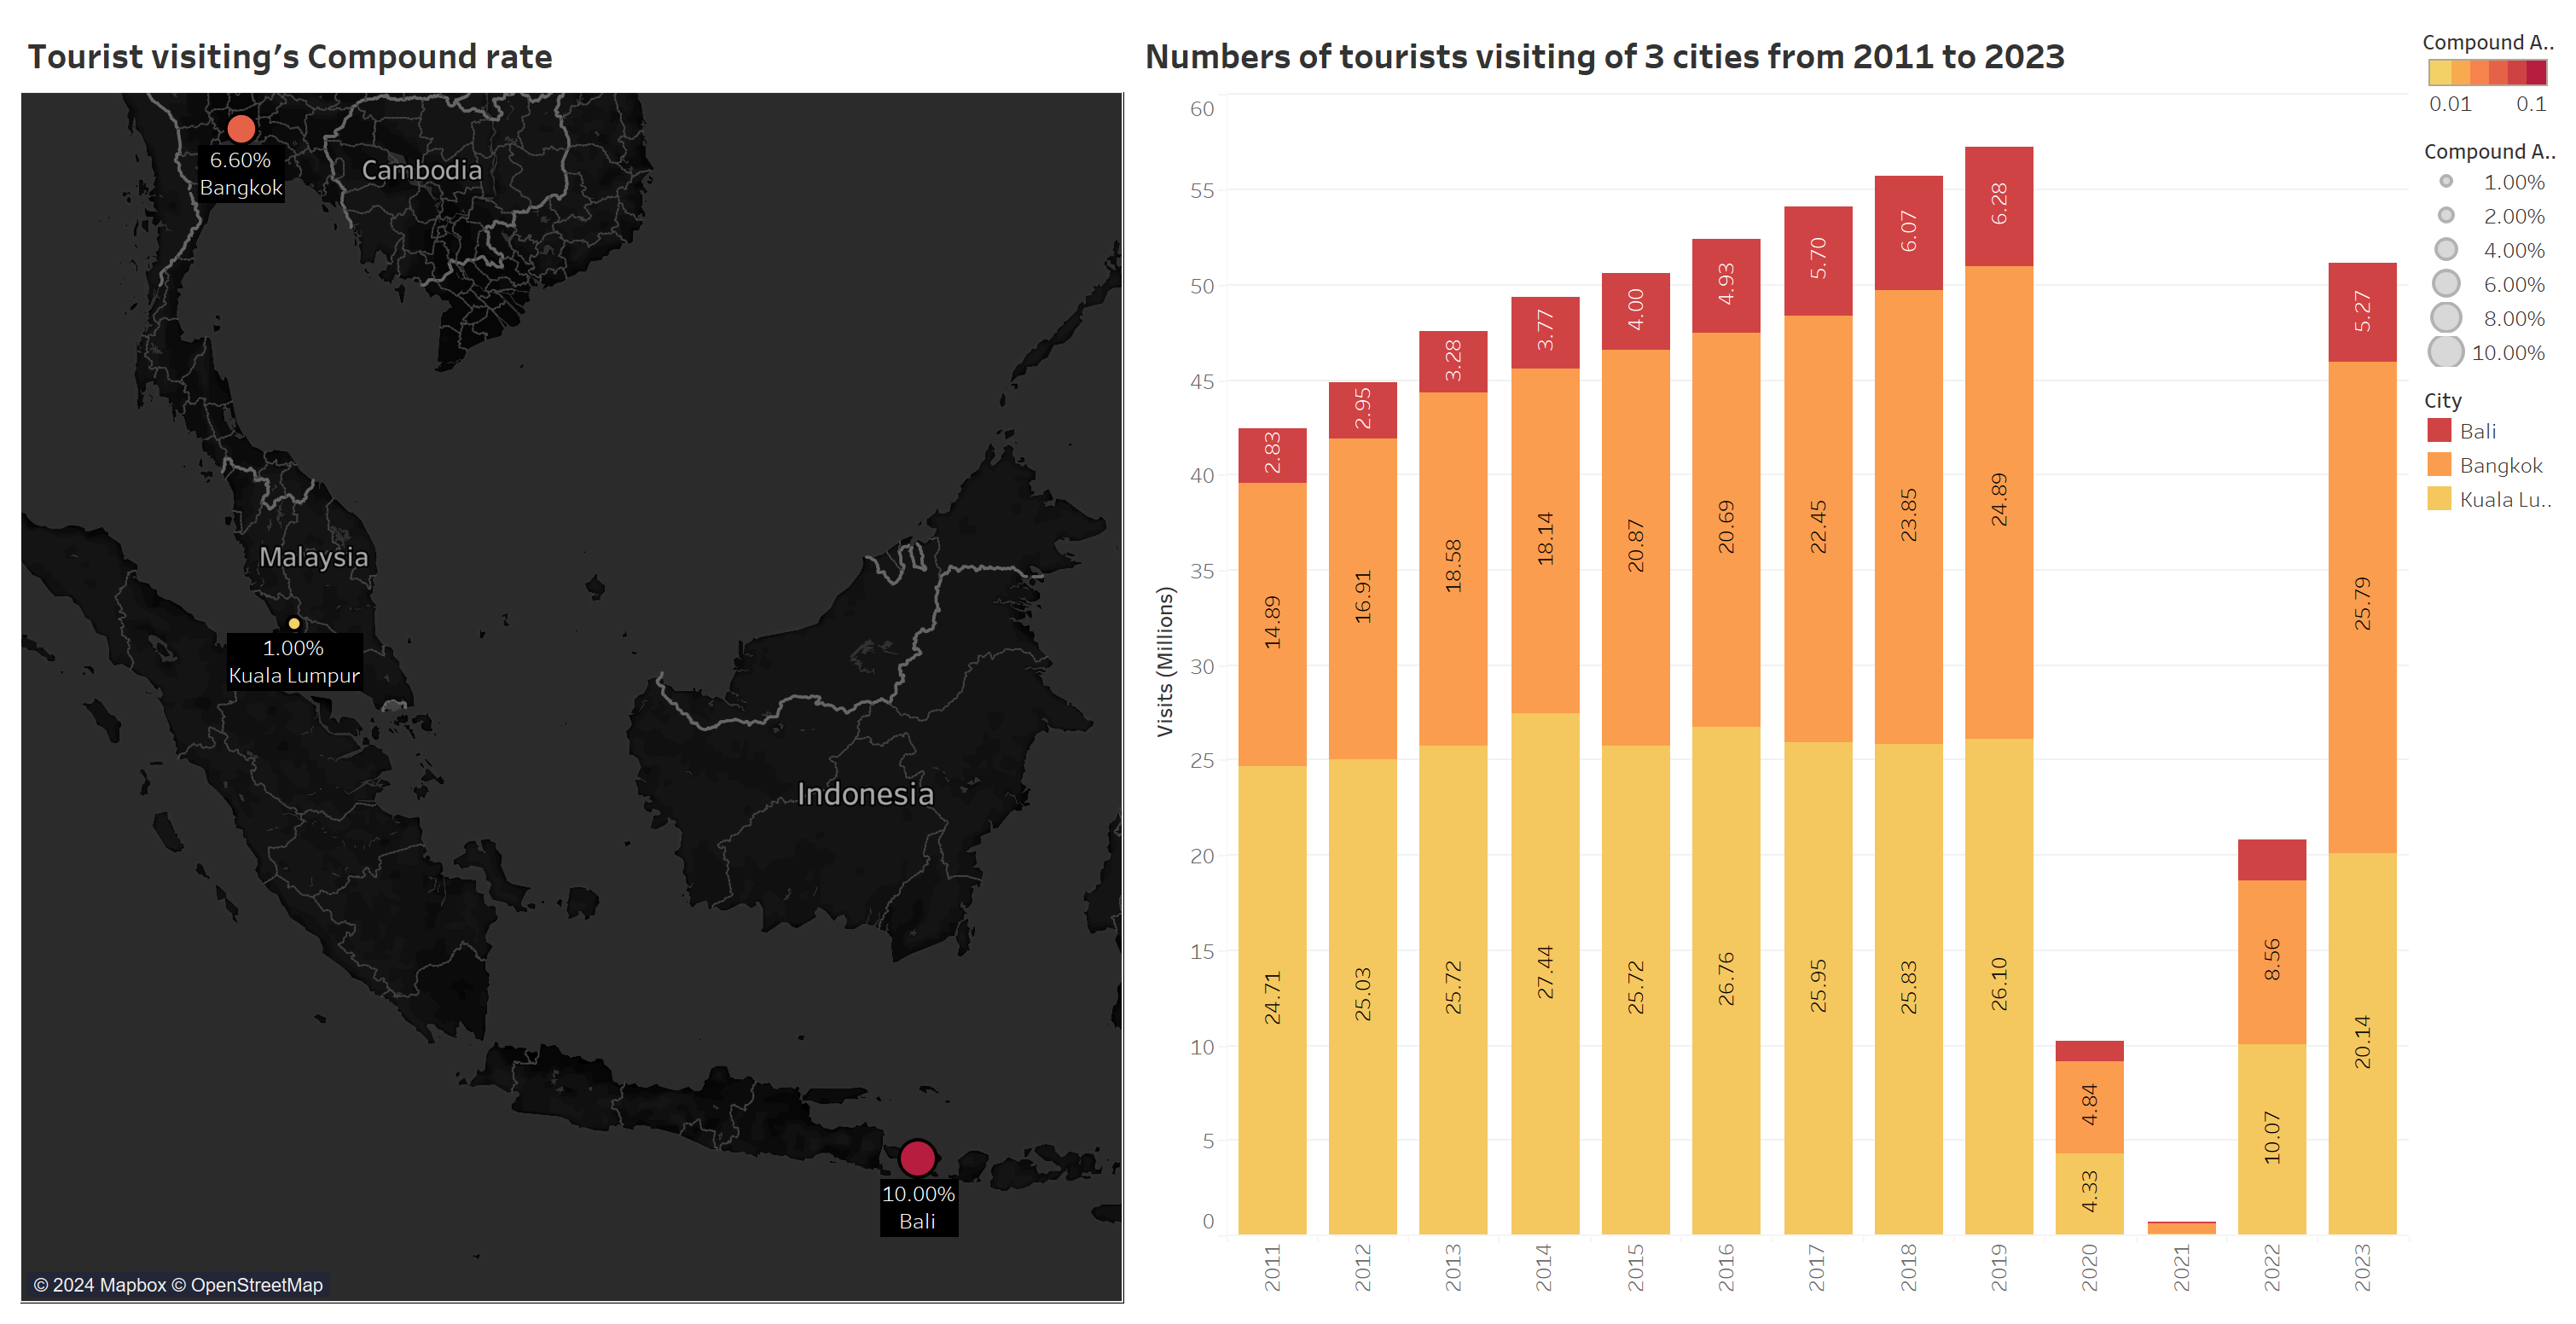

Layout of this report page (visuals, bound fields, positions):
{"tool":"tableau","page":{"name":"Dashboard 2","canvas":[1000,1000],"units":"permille","ordinal":1},"visuals":[{"type":"worksheet","title":"map comparision","mark":"Automatic","box":[5.9,10.3,931.9,439.4]},{"type":"filter","title":"map comparision","param":"[federated.103vblp1dguotj1g3bm8i1cobax3].[none:Year:ok]","box":[937.7,10.3,56.4,188.2]},{"type":"legend","title":"map comparision","param":"[federated.103vblp1dguotj1g3bm8i1cobax3].[sum:Tourism Arrivals (Million):qk]","box":[937.7,198.5,56.4,83.8]},{"type":"worksheet","title":"Sheet 4","mark":"Automatic","rows":["Tourism Arrivals (Million)","BOD (mg/L)","COD (mg/L)","TSS (mg/L)","Salinity (TDS mg/L)","Fecal Coliforms (MPN/100mL)","Nitrate Level (mg/L)","Phosphate Rate (mg/L)"],"cols":["Year","Province"],"box":[5.9,449.7,931.9,540]}]}

Visuals, with their boxes on the dashboard's canvas, which has no fixed pixel size, in thousandths of its width and height (x1, y1, x2, y2). These are canvas units, not pixel positions in the 2576x1324 screenshot, which may show the page scaled, cropped or inside an application window:
"map comparision" worksheet: left=6, top=10, right=938, bottom=450
"map comparision" filter: left=938, top=10, right=994, bottom=198
"map comparision" legend: left=938, top=198, right=994, bottom=282
"Sheet 4" worksheet: left=6, top=450, right=938, bottom=990
